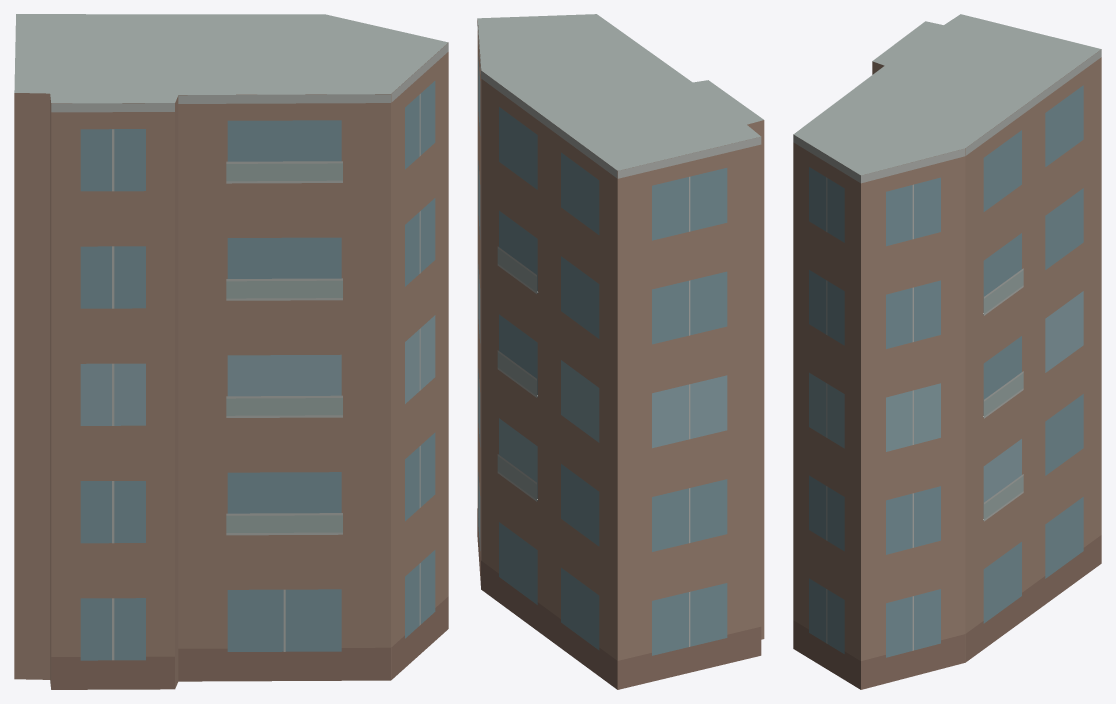
Rendered from survey-upis-32899452.glb.
The picture shows the model from 3 angles, left to right: view 1: azimuth 30°, elevation 25°; view 2: azimuth 150°, elevation 25°; view 3: azimuth 270°, elevation 25°; orthographic projection. The views are drawn at different scales.
Visible parts, largest first — view 1: survey-upis-32899452.tmp; view 2: survey-upis-32899452.tmp; view 3: survey-upis-32899452.tmp.
Boxes of the visible parts, x1,y1,x2,y2 form: survey-upis-32899452.tmp: (14,14,448,689); survey-upis-32899452.tmp: (477,14,764,689); survey-upis-32899452.tmp: (793,14,1101,689).
Size of the model in its own units: 10.72 by 15.9 by 8.64.
